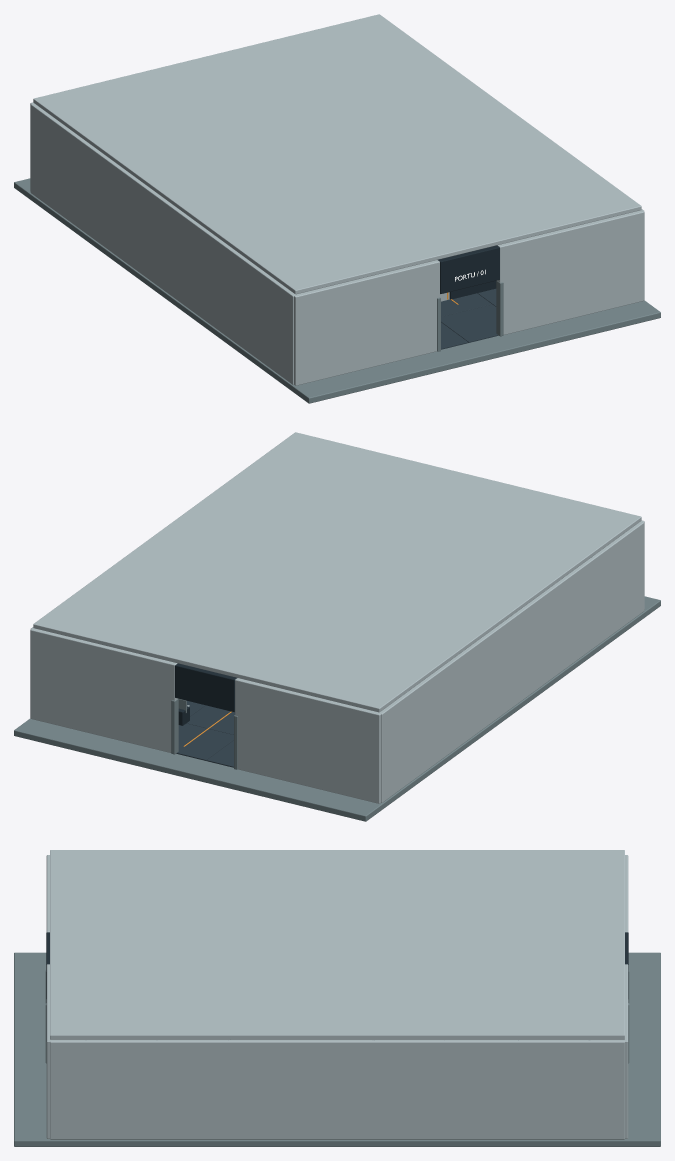
Rendered from memory_archive.glb.
3 views of the same model, one above another, from view 1: azimuth 30°, elevation 25°; view 2: azimuth 150°, elevation 25°; view 3: azimuth 270°, elevation 25° (orthographic). The views are drawn at different scales.
Visible parts, largest first — view 1: roof_cutaway_mesh, front_cutaway_mesh, structure_mesh, floor_tiles_mesh; view 2: roof_cutaway_mesh, structure_mesh, floor_tiles_mesh; view 3: roof_cutaway_mesh, structure_mesh, floor_tiles_mesh, front_cutaway_mesh.
Part boxes in pixels (left/top/right/bottom): roof_cutaway_mesh: left=33, top=14, right=641, bottom=294; front_cutaway_mesh: left=294, top=210, right=644, bottom=385; structure_mesh: left=30, top=102, right=644, bottom=384; floor_tiles_mesh: left=14, top=178, right=660, bottom=403; roof_cutaway_mesh: left=33, top=432, right=641, bottom=712; structure_mesh: left=30, top=522, right=644, bottom=803; floor_tiles_mesh: left=14, top=596, right=660, bottom=821; roof_cutaway_mesh: left=50, top=850, right=624, bottom=1039; structure_mesh: left=50, top=855, right=629, bottom=1139; floor_tiles_mesh: left=14, top=952, right=660, bottom=1146; front_cutaway_mesh: left=45, top=855, right=52, bottom=1138.
Size of the model in its own units: 24.8 by 6.78 by 36.
